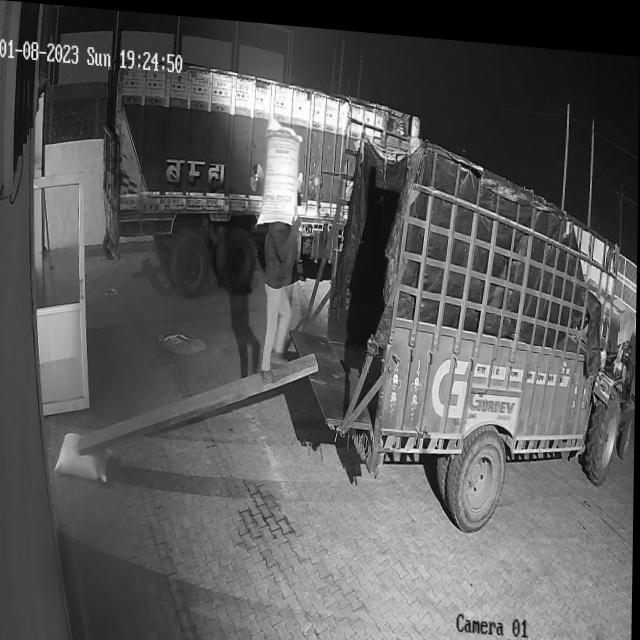sack: (258, 112, 303, 223), (57, 429, 112, 481)
